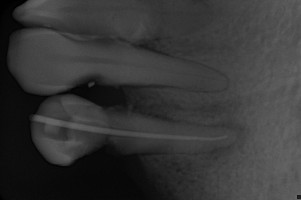Furcation Involvement: (207, 119, 248, 156)
